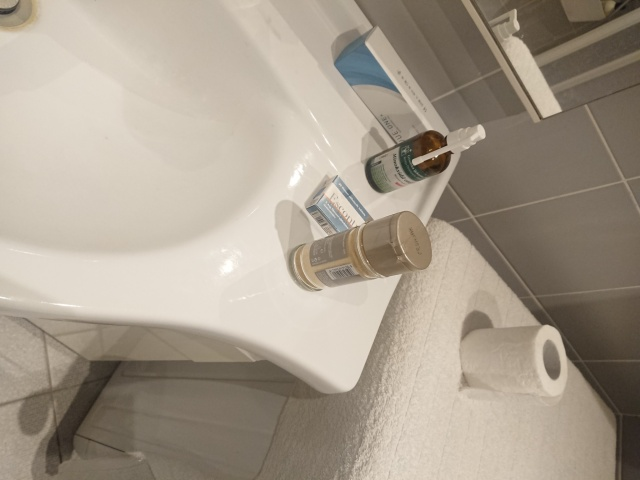Kotanyi Garlic Granules 70g: (287, 208, 434, 294)
